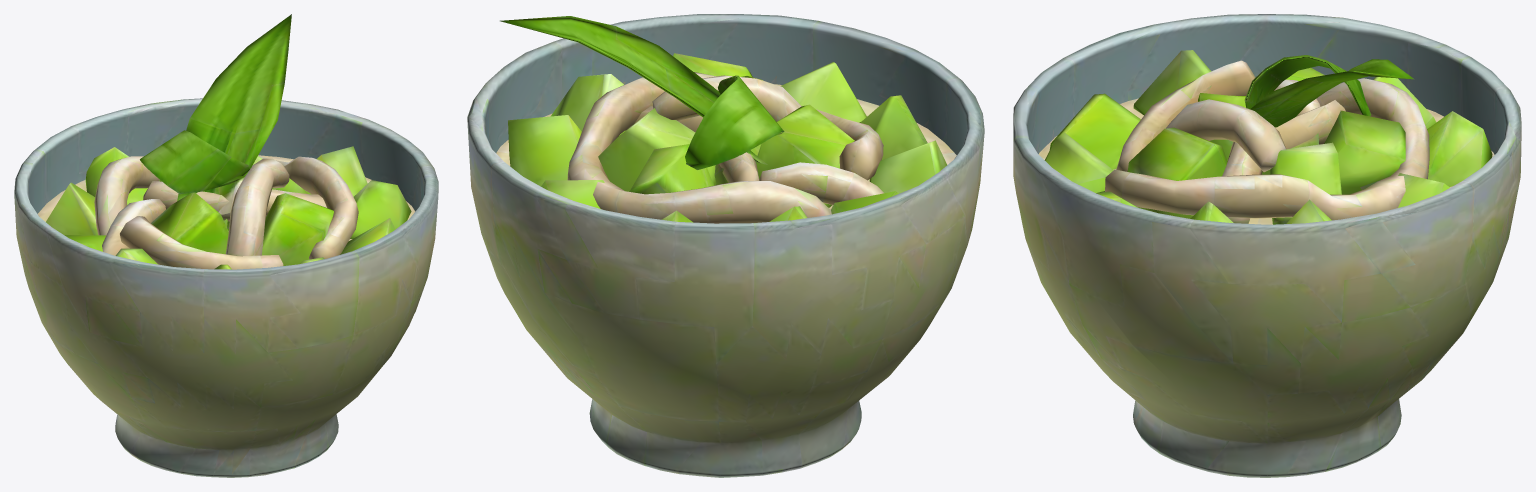
Rendered from buko-pandan.glb.
3 renders of one model, left to right at view 1: azimuth 30°, elevation 25°; view 2: azimuth 150°, elevation 25°; view 3: azimuth 270°, elevation 25°, orthographic. The views are drawn at different scales.
Visible parts, largest first — view 1: geometry_0; view 2: geometry_0; view 3: geometry_0.
Part boxes in pixels (x1=…): geometry_0: x1=14, y1=14, x2=438, y2=477; geometry_0: x1=467, y1=14, x2=984, y2=477; geometry_0: x1=1013, y1=14, x2=1521, y2=477.
Bounding box in the file's own units: 1 × 0.9045 × 1.
1 material, 1 textured.
